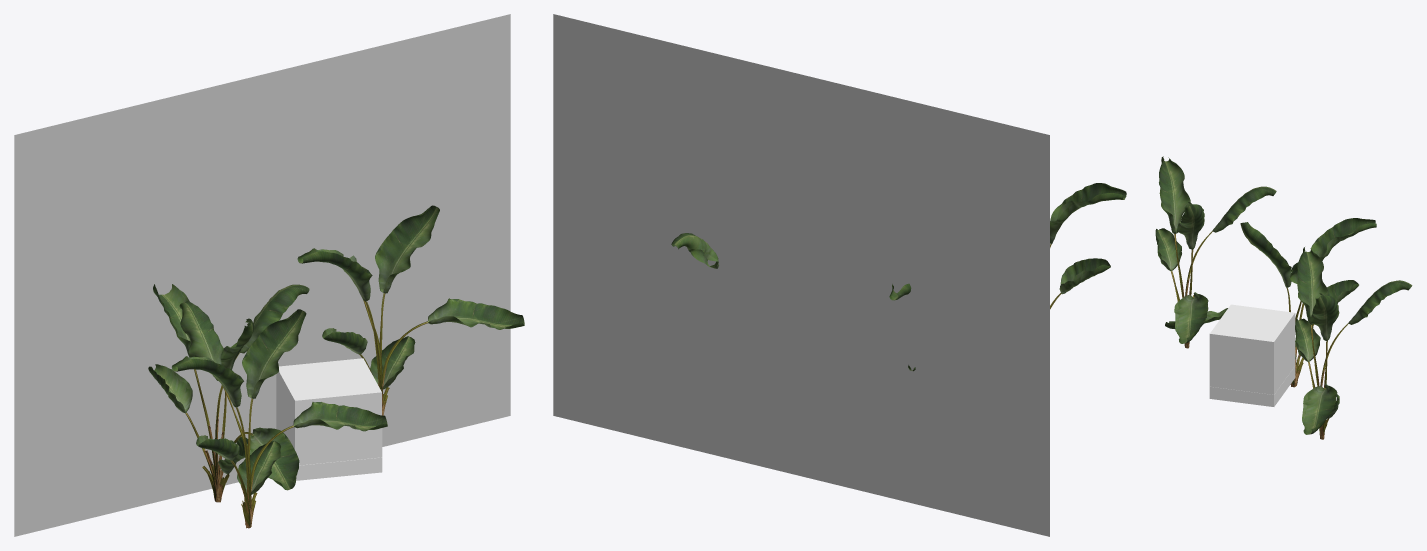
Rendered from ecom-leaves.glb.
3 views of the same model, side by side, from view 1: azimuth 30°, elevation 25°; view 2: azimuth 150°, elevation 25°; view 3: azimuth 270°, elevation 25° (orthographic). The views are drawn at different scales.
Parts seen in each view (by area): view 1: bg, plant3, Cube, plant1, plant2; view 2: bg, plant3, plant1; view 3: Cube, plant3, plant1, plant2.
Boxes of the visible parts, x1,y1,x2,y2 form: bg: (14, 14, 510, 536); plant3: (171, 301, 387, 528); Cube: (276, 358, 382, 480); plant1: (297, 205, 524, 415); plant2: (148, 284, 309, 502); bg: (553, 14, 1049, 536); plant3: (1050, 183, 1126, 309); plant1: (671, 233, 718, 268); Cube: (1209, 304, 1295, 406); plant3: (1155, 156, 1276, 348); plant1: (1295, 247, 1412, 439); plant2: (1165, 218, 1376, 387).
Bounding box in the file's own units: 8.74 × 6.76 × 4.82.
Materials: 8 (6 with a texture image).
